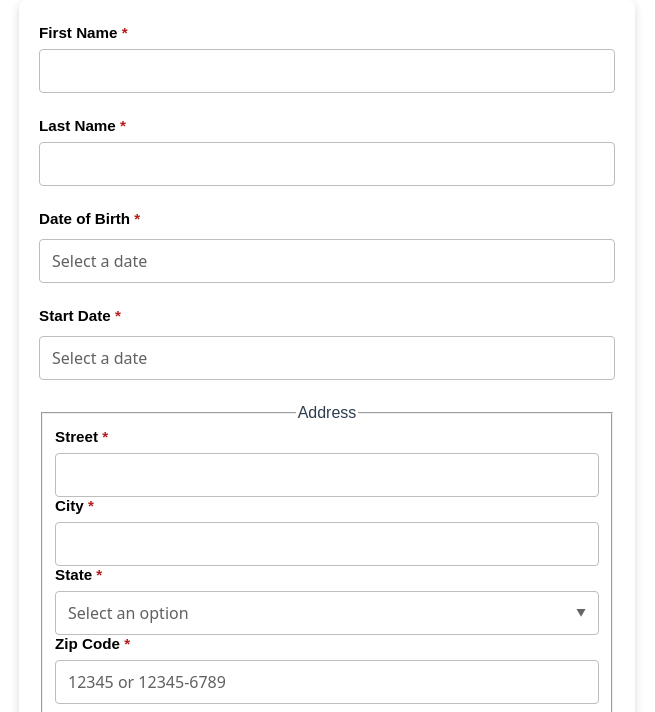
Test: EmployeeForm › Form Validation › shows error for invalid first name with numbers
Type "John123" into the field with test id "input-firstName" at (327, 71), box [39,49,615,93]
(page scrolled)
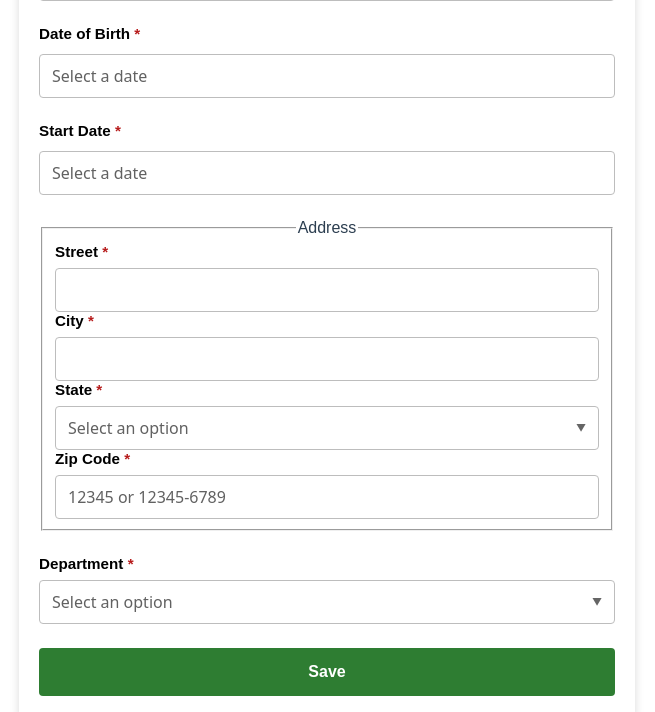
Click the button with test id "button-save" at (327, 672), box [39,648,615,696]
(page scrolled)
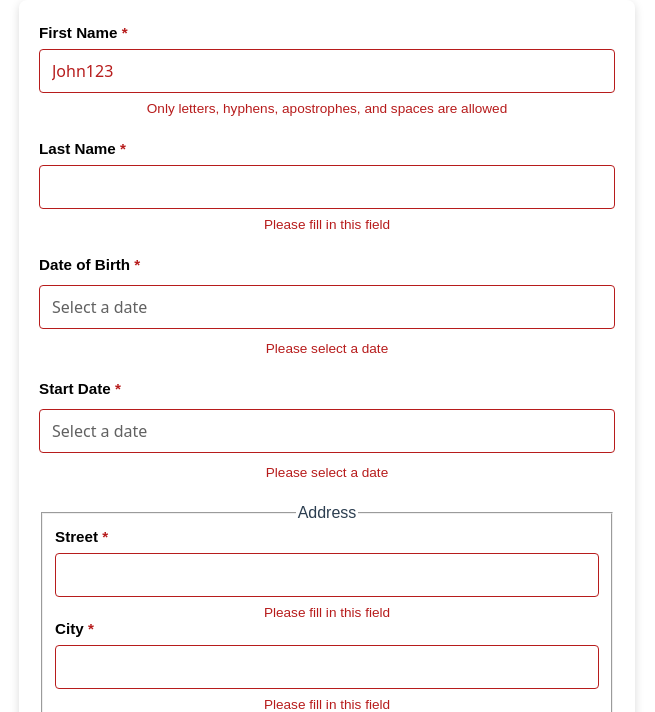
Now the text "Only letters, hyphens, apostrophes, and spaces are allowed" is shown, box [147,101,507,116]
